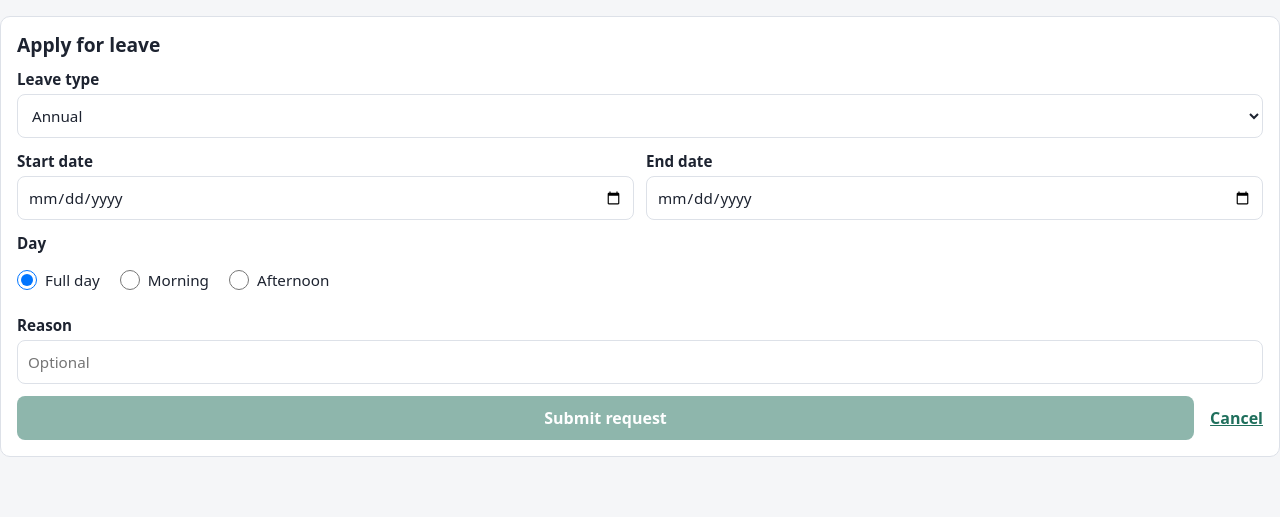
Test case: ApplyLeaveForm › Afternoon on the last day of a range: Mon–Wed + Afternoon = 2.5
Type "2026-10-05" into the date field labelled "Start date" at [326, 198], box [17, 176, 634, 220]
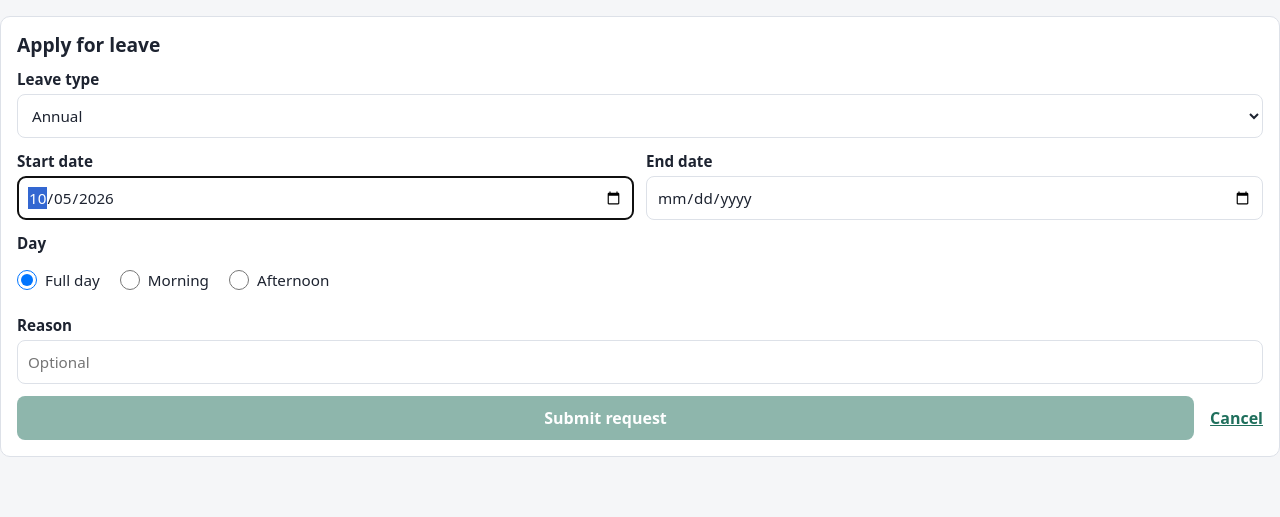
Type "2026-10-07" into the date field labelled "End date" at [954, 198], box [646, 176, 1263, 220]
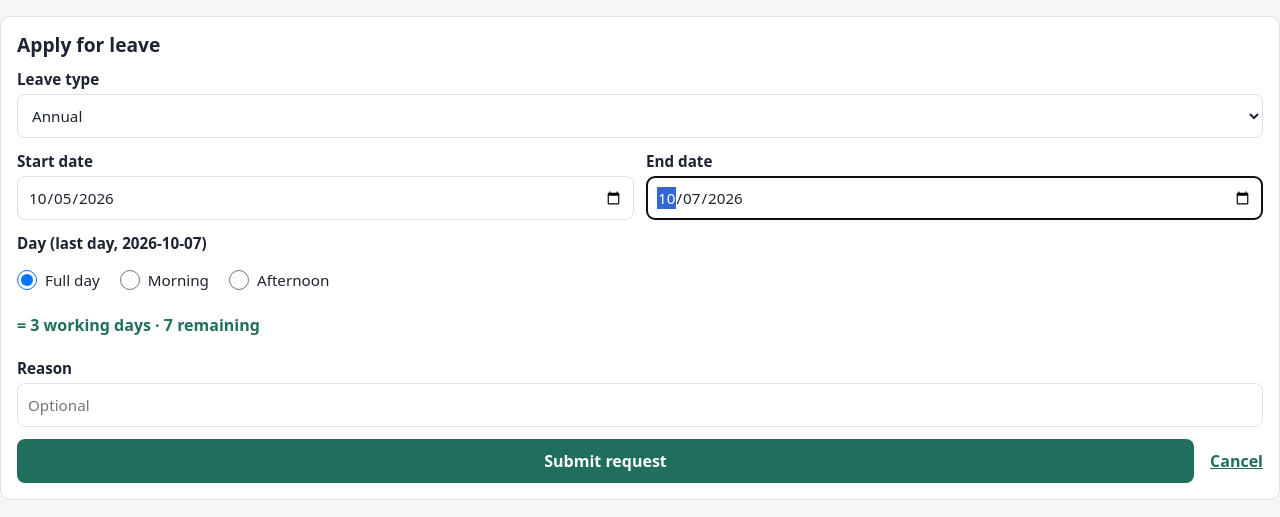
Expected: the element "Day (last day, 2026-10-07)" is shown, [17, 233, 329, 302]
Click the radio button labelled "Afternoon" at [239, 280], box [229, 258, 249, 302]
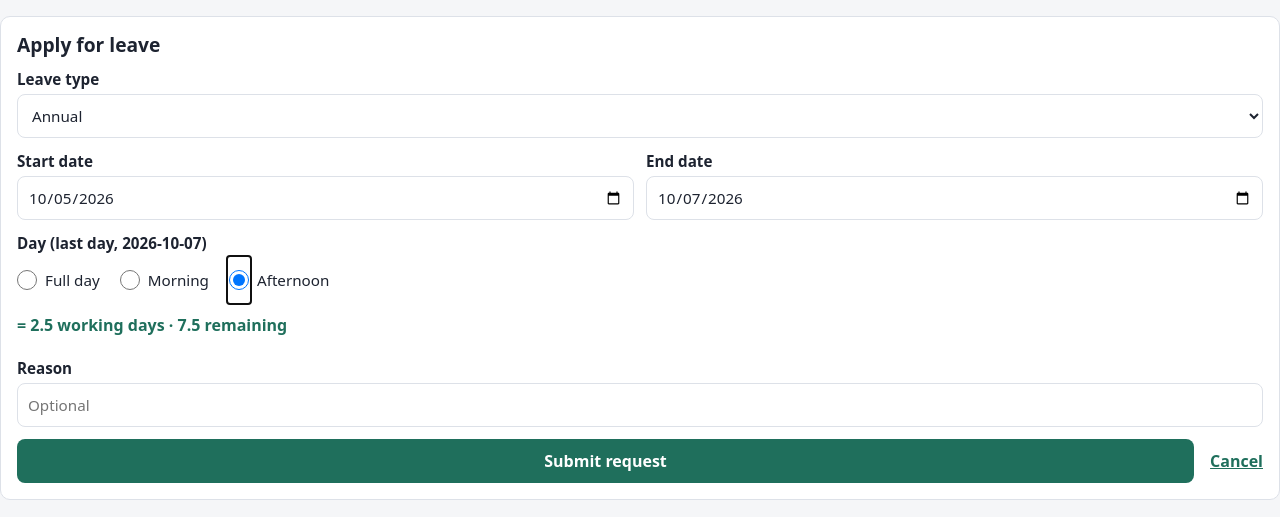
Expected: the text with test id "balance-line" reads "= 2.5 working days · 7.5 remaining", [17, 314, 287, 336]
